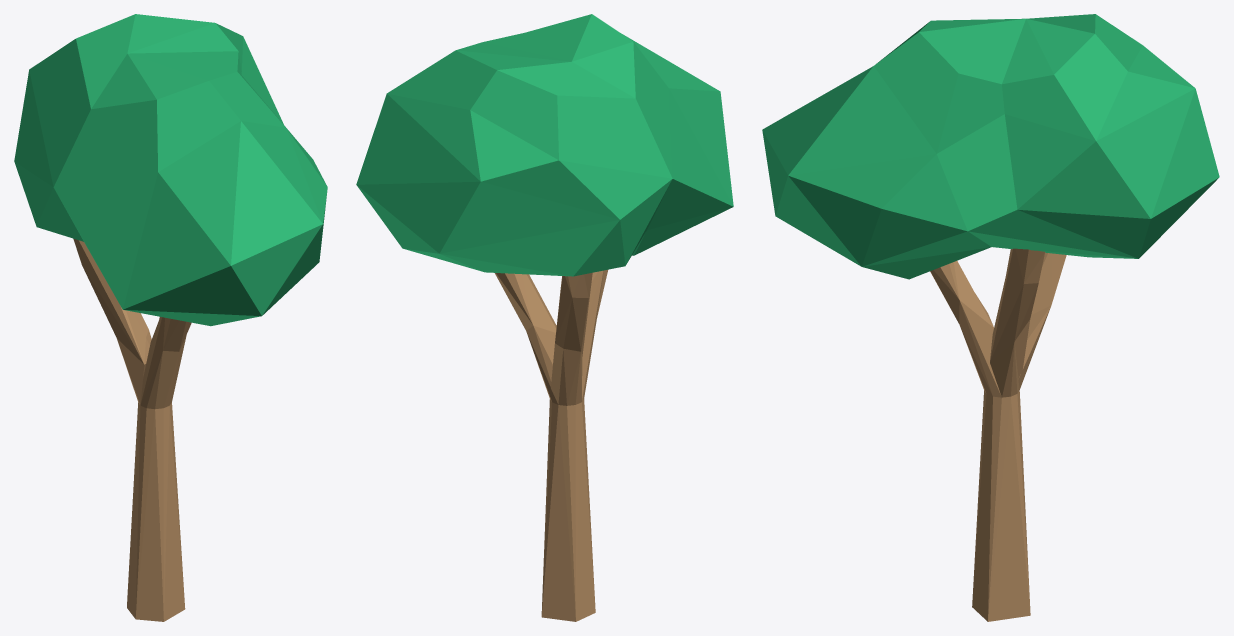
Rendered from lowPolyTree.gltf.
3 renders of one model, left to right at view 1: azimuth 30°, elevation 25°; view 2: azimuth 150°, elevation 25°; view 3: azimuth 270°, elevation 25°, orthographic. The views are drawn at different scales.
Visible parts, largest first — view 1: Puu; view 2: Puu; view 3: Puu.
Part boxes in pixels (<box>): Puu: <box>14,14,327,621</box>; Puu: <box>356,14,733,621</box>; Puu: <box>762,14,1219,621</box>.
Size of the model in its own units: 4.67 by 10.17 by 7.16.
Materials: 1 (1 with a texture image).
